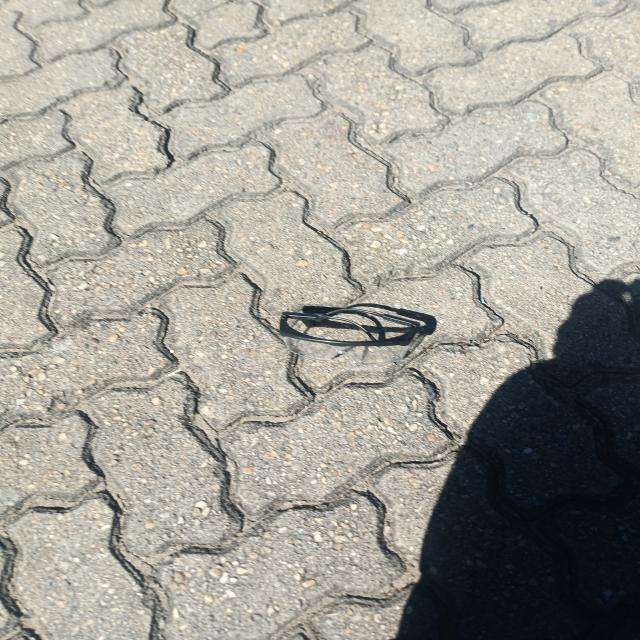oculos-epi: (280, 304, 422, 364)
